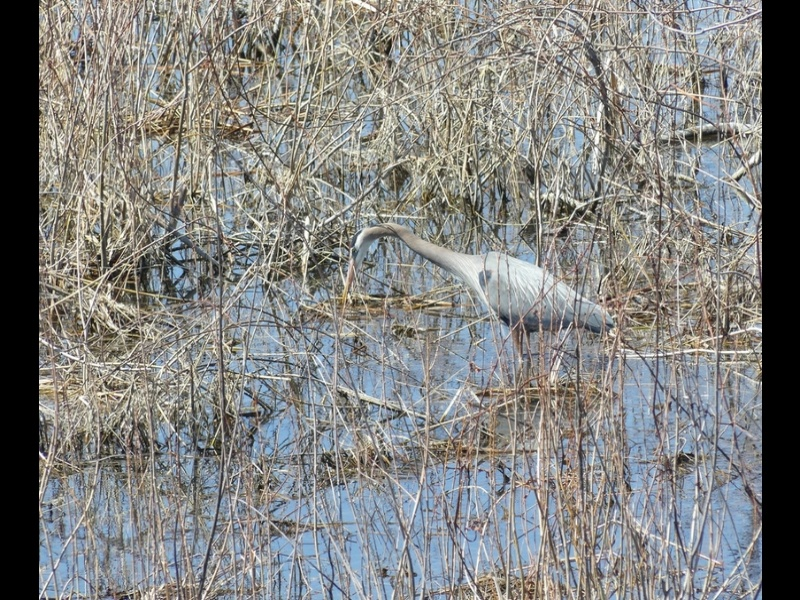heron: (340, 216, 624, 398)
